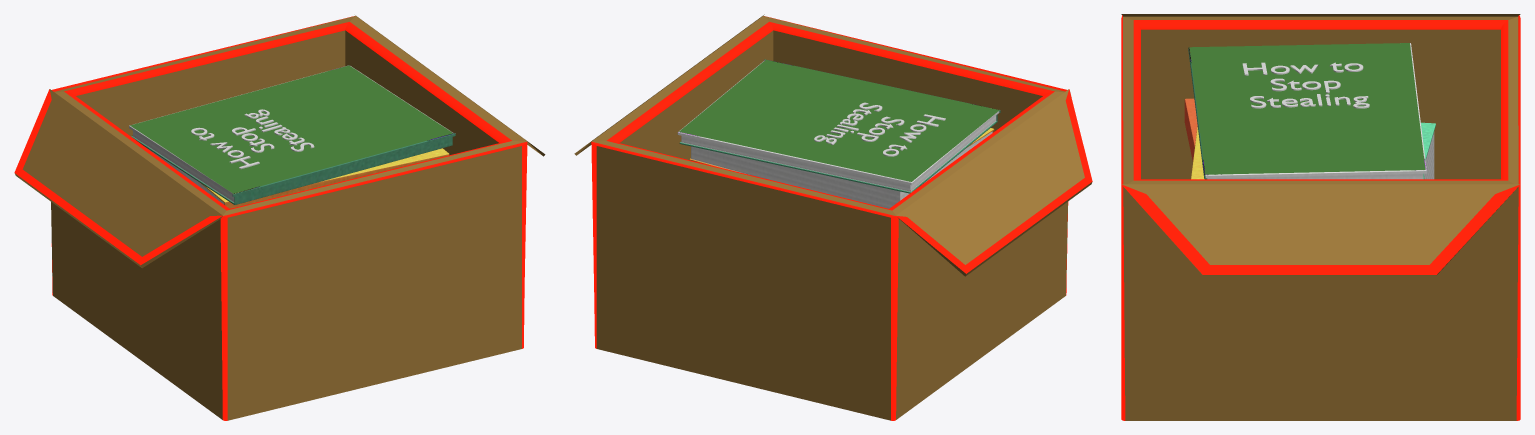
The model's file is J_.OBSempujable_BookBox.fbx.
The picture shows the model from 3 angles, left to right: view 1: azimuth 30°, elevation 25°; view 2: azimuth 150°, elevation 25°; view 3: azimuth 270°, elevation 25°; orthographic projection. The views are drawn at different scales.
Parts seen in each view (by area): view 1: Cube.007; view 2: Cube.007; view 3: Cube.007.
Boxes of the visible parts, x1,y1,x2,y2 form: Cube.007: (14,15,545,420); Cube.007: (574,14,1092,420); Cube.007: (1121,14,1520,420).
Size of the model in its own units: 137 by 65.67 by 99.96.
5 materials, 1 textured.
